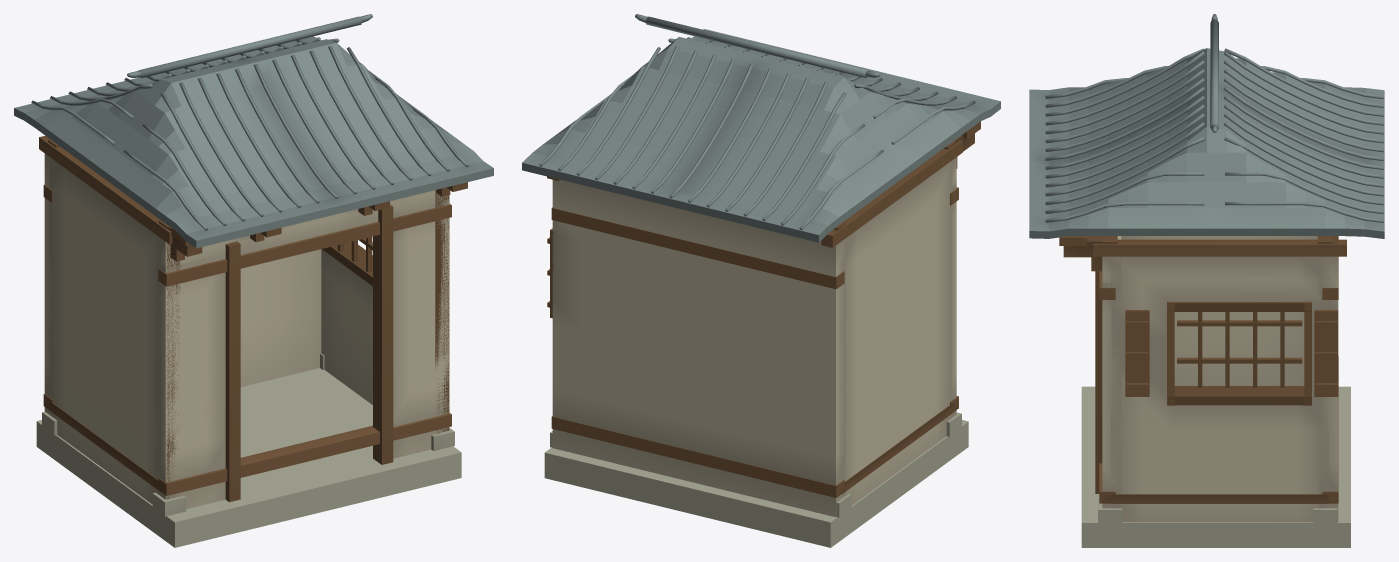
Rendered from tea_shop.glb.
3 renders of one model, left to right at view 1: azimuth 30°, elevation 25°; view 2: azimuth 150°, elevation 25°; view 3: azimuth 270°, elevation 25°, orthographic. The views are drawn at different scales.
Parts seen in each view (by area): view 1: Kit_plaster, Kit_roof, Kit_wood, Kit_stone; view 2: Kit_plaster, Kit_roof, Kit_stone, Kit_wood; view 3: Kit_roof, Kit_plaster, Kit_wood, Kit_stone.
Boxes of the visible parts, x1,y1,x2,y2 form: Kit_plaster: [44, 153, 449, 509]; Kit_roof: [14, 14, 493, 248]; Kit_wood: [39, 135, 467, 502]; Kit_stone: [36, 353, 461, 547]; Kit_plaster: [552, 157, 956, 517]; Kit_roof: [522, 14, 1000, 242]; Kit_stone: [544, 412, 968, 547]; Kit_wood: [547, 121, 980, 497]; Kit_roof: [1029, 14, 1384, 238]; Kit_plaster: [1102, 236, 1338, 522]; Kit_wood: [1059, 236, 1346, 503]; Kit_stone: [1081, 386, 1350, 547].
Bounding box in the file's own units: 1.95 × 2.63 × 2.07.
